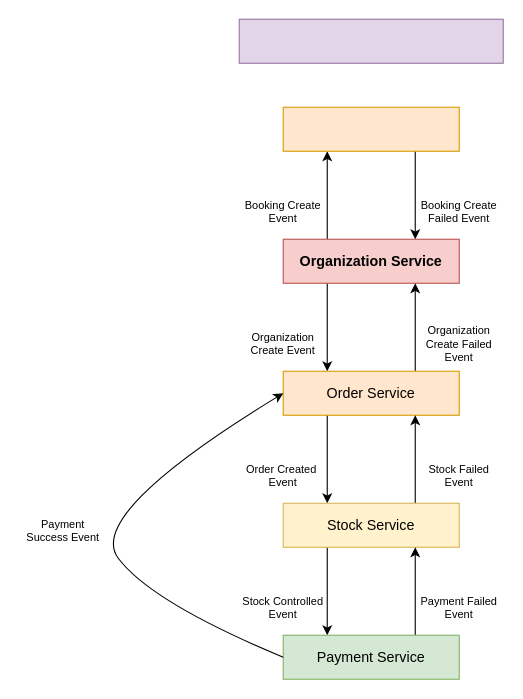
The diagram is 523 pixels wide and 699 high, and some of its shapes have lost their labels. Each missing label, with the box of its shape:
Booking Service: (282, 106, 459, 151)
Kafka Event Diagram: (238, 18, 503, 63)
